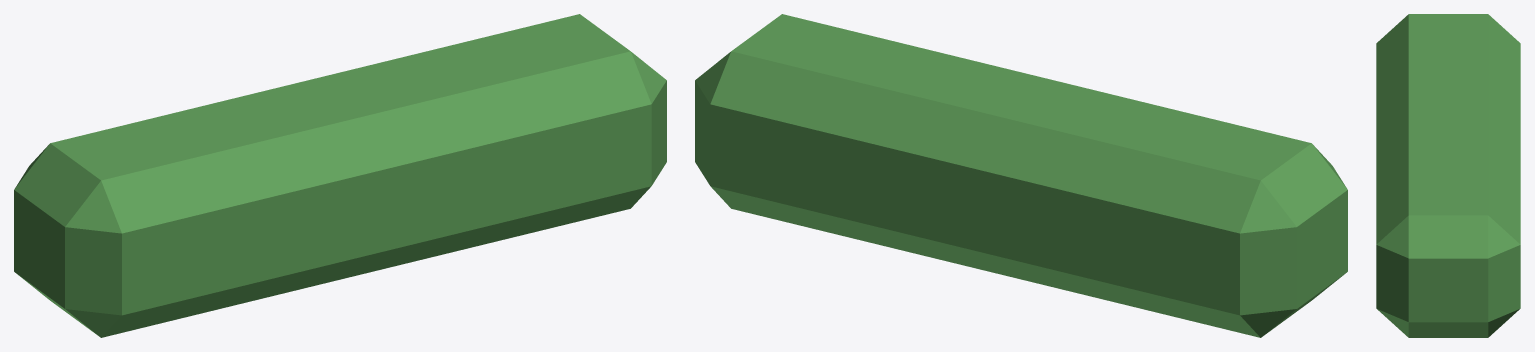
File: hedge.fbx
The picture shows the model from 3 angles, left to right: view 1: azimuth 30°, elevation 25°; view 2: azimuth 150°, elevation 25°; view 3: azimuth 270°, elevation 25°; orthographic projection. The views are drawn at different scales.
Visible parts, largest first — view 1: hedge; view 2: hedge; view 3: hedge.
Boxes of the visible parts, x1,y1,x2,y2 form: hedge: (14,14,666,337); hedge: (695,14,1347,337); hedge: (1376,14,1520,337).
Bounding box in the file's own units: 3 × 0.75 × 0.8.
